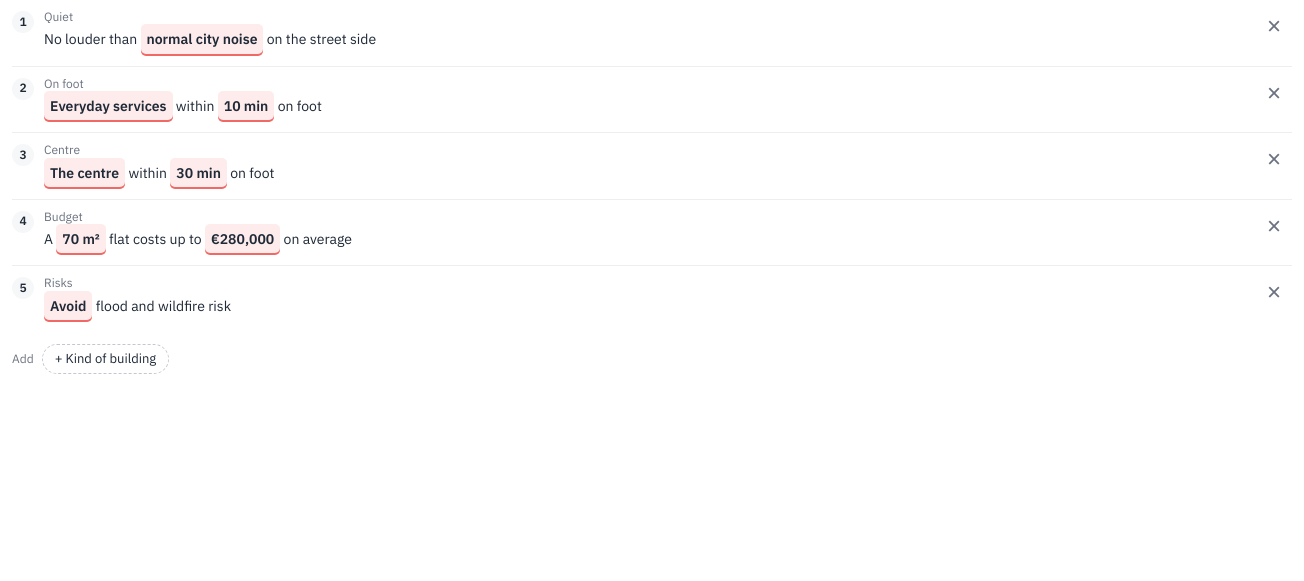
Test: ConditionsEditor › word picker in place (072) › a second tap on the word closes it; Escape closes it; picking a step closes it
The image size is (1304, 581).
Click the button "normal city noise" at coordinates (202, 40), box [140,24,264,56]
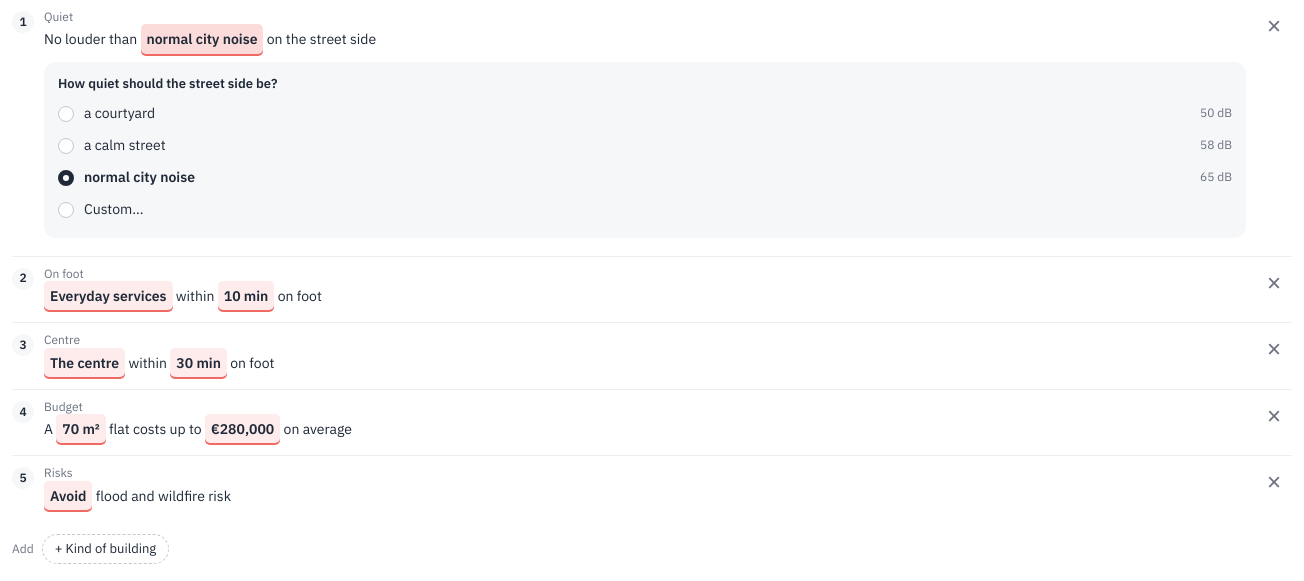
Click the button "normal city noise" at coordinates (202, 40), box [140,24,264,56]
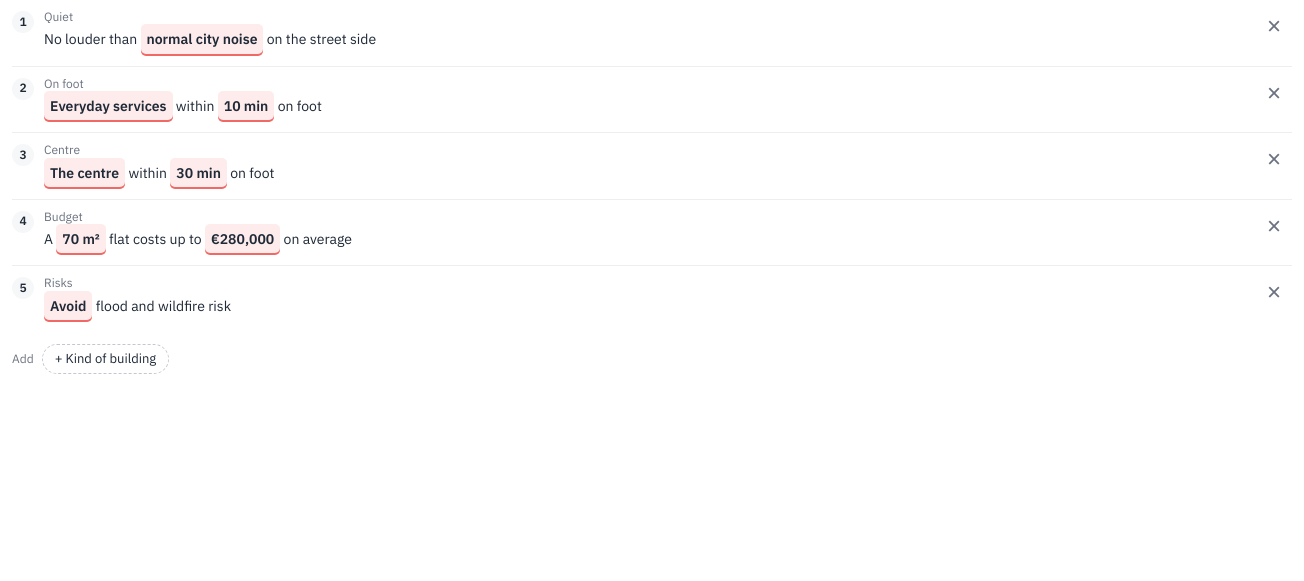
Expected: the element with class "word-panel" is gone
Click the button "normal city noise" at coordinates (202, 40), box [140,24,264,56]
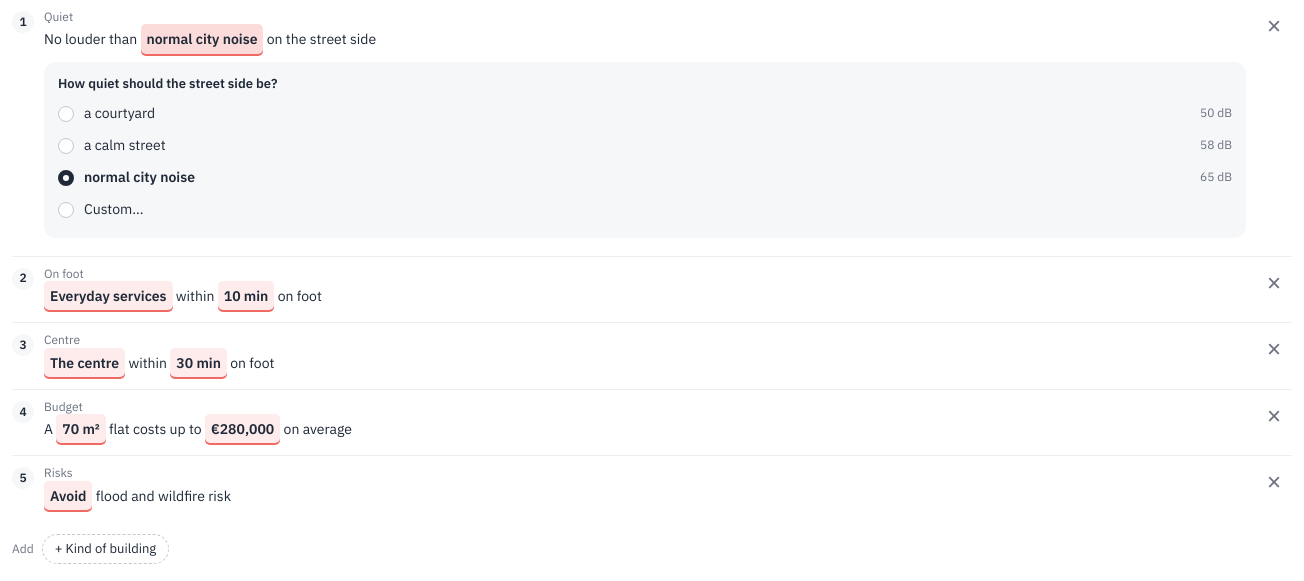
Press Escape
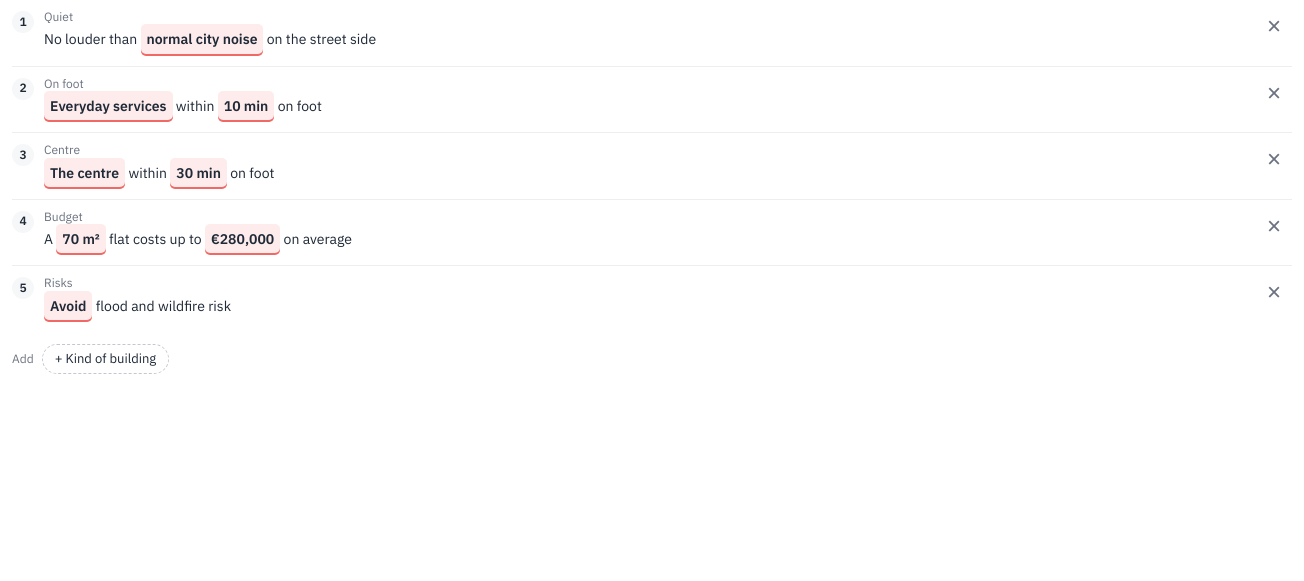
Expected: the element with class "word-panel" is gone
Click the button "normal city noise" at coordinates (202, 40), box [140,24,264,56]
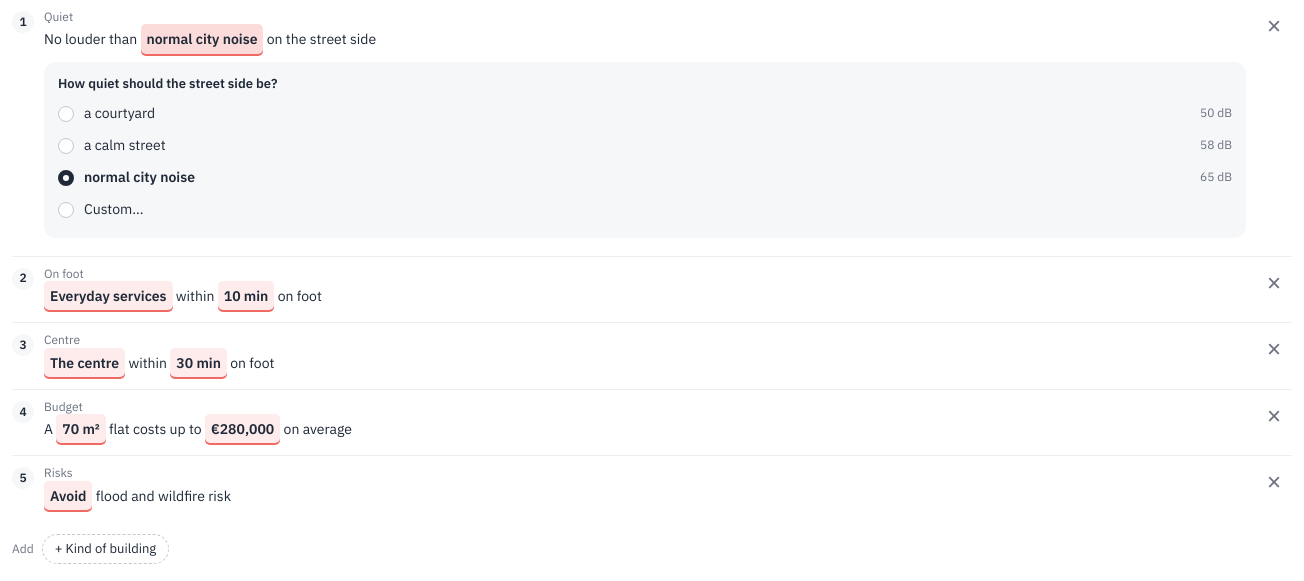
Click the radio button labelled "a calm street 58 dB" at coordinates (125, 145), box [58,130,1232,162]
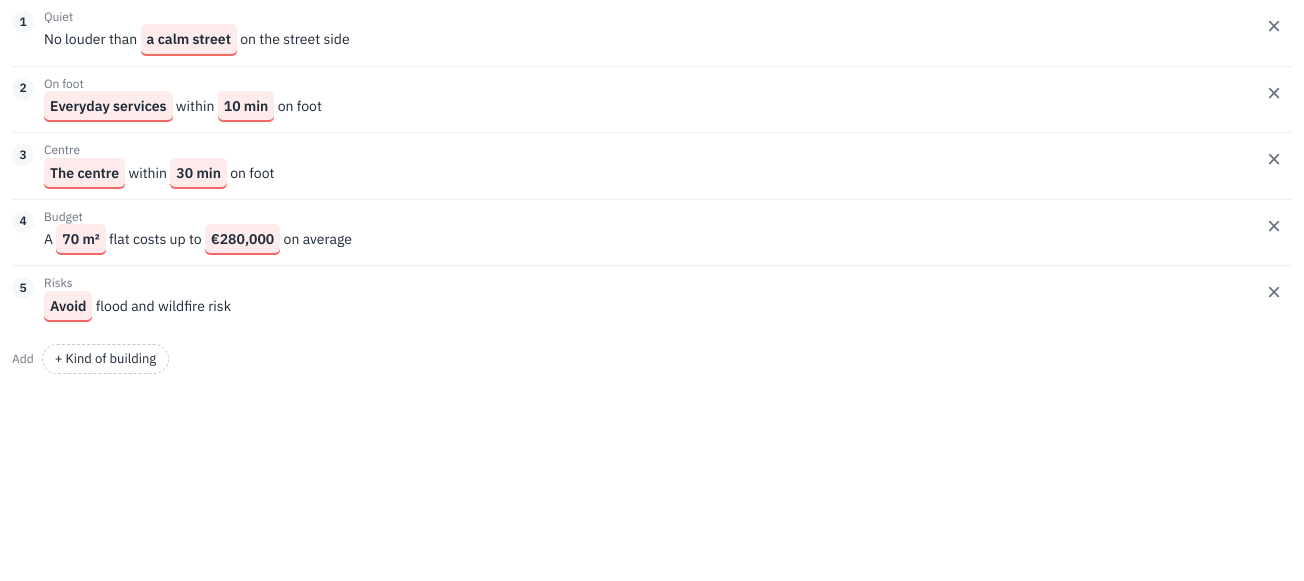
Expected: the element with class "word-panel" is gone
